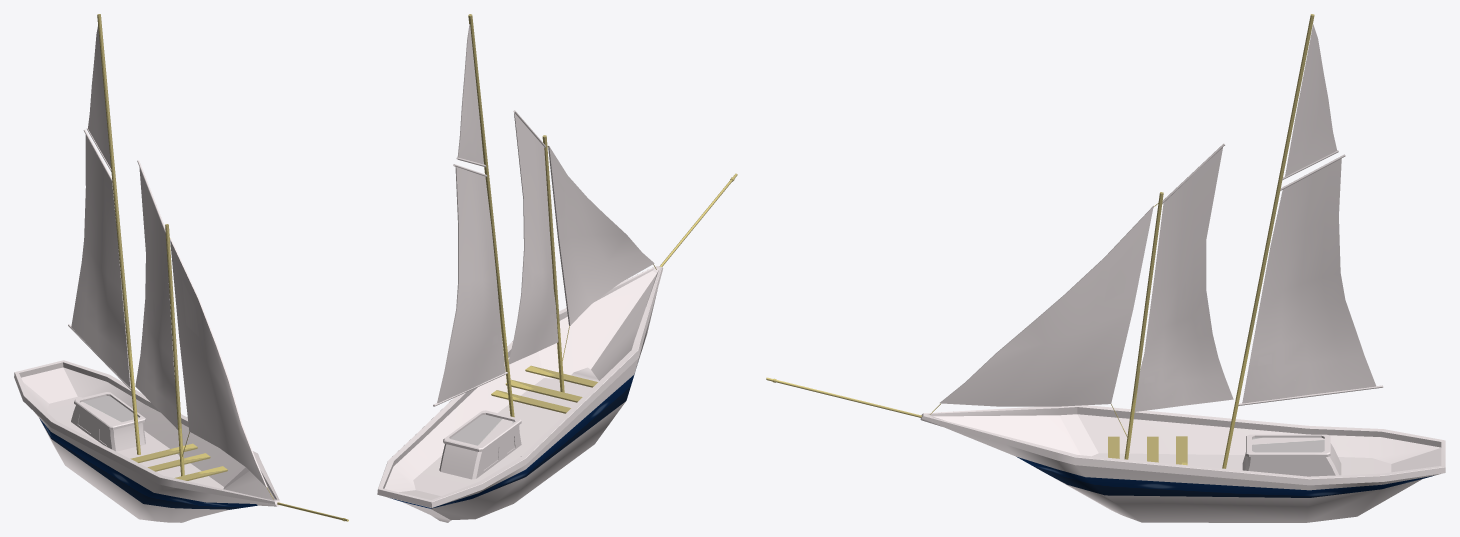
File: windjammer.fbx
3 views of the same model, side by side, from view 1: azimuth 30°, elevation 25°; view 2: azimuth 150°, elevation 25°; view 3: azimuth 270°, elevation 25° (orthographic). The views are drawn at different scales.
Visible parts, largest first — view 1: models_f19:models_f18:models_f17:models_f16:models_f15:model; view 2: models_f19:models_f18:models_f17:models_f16:models_f15:model; view 3: models_f19:models_f18:models_f17:models_f16:models_f15:model.
Boxes of the visible parts, bbox=[...] form: models_f19:models_f18:models_f17:models_f16:models_f15:model: bbox=[14, 14, 348, 522]; models_f19:models_f18:models_f17:models_f16:models_f15:model: bbox=[377, 14, 737, 522]; models_f19:models_f18:models_f17:models_f16:models_f15:model: bbox=[766, 14, 1445, 522].
Size of the model in its own units: 3.95 by 16.45 by 20.42.
